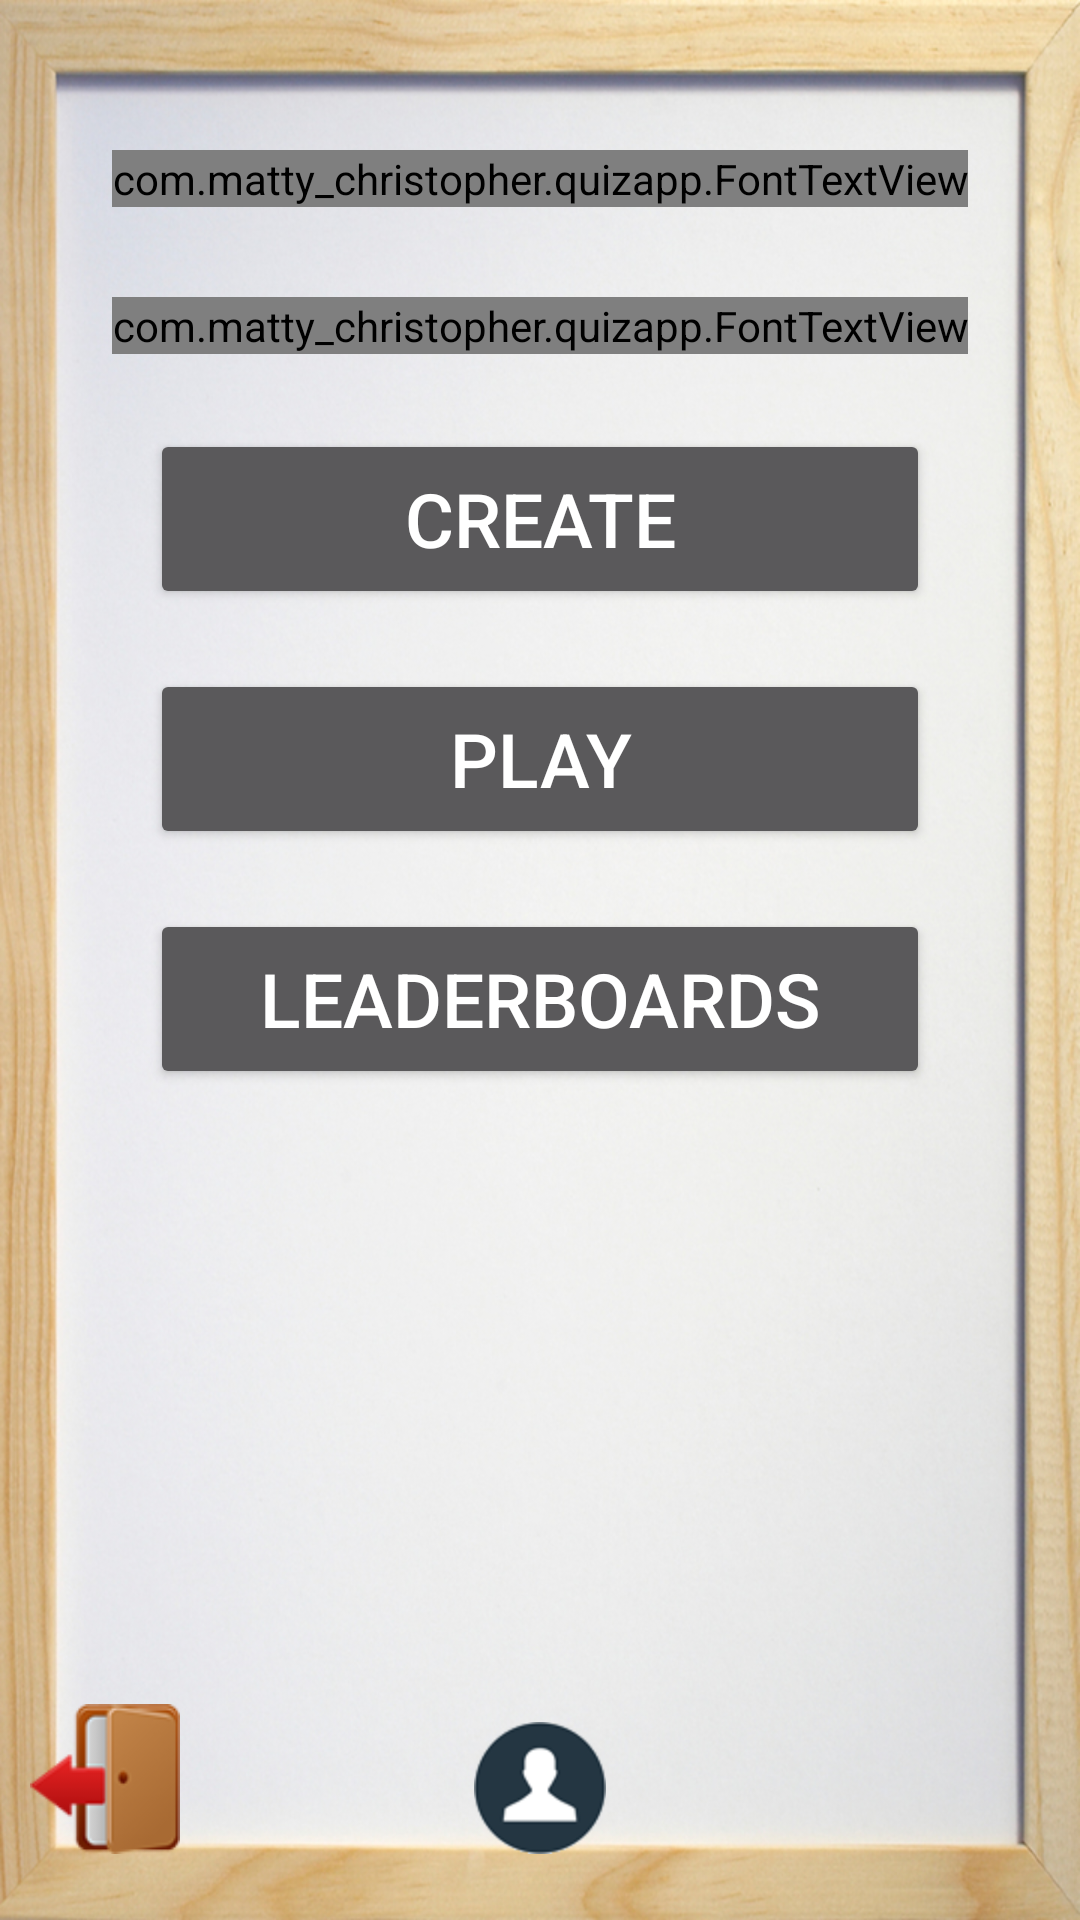

Icon click points for this 1080w x 1920h phone screenshot, format (x=x, y=y):
profile: (x=540, y=1788)
